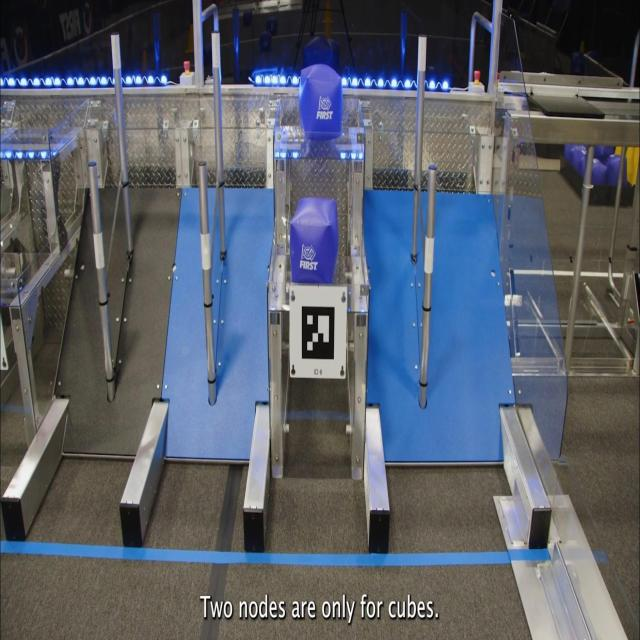frc_cone: (622, 144, 635, 186), (630, 142, 640, 182)
frc_cube: (290, 198, 338, 282), (299, 62, 342, 142), (604, 154, 626, 189), (584, 156, 606, 189), (590, 139, 615, 157), (572, 144, 588, 172), (564, 137, 580, 160)
